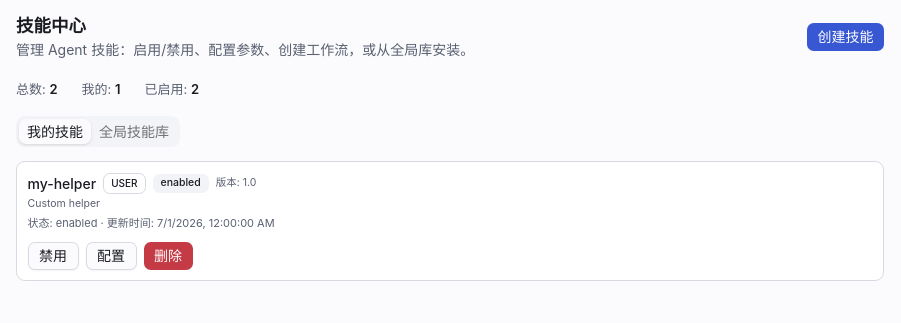
it: Skill Center › shows Chinese short descriptions in the catalog when locale is zh
This screenshot has width=901, height=323.
What coordinates should you click on to do the following:
click the tab "全局技能库"
I would click on:
 (134, 132)
Its box is [91,119,177,144].
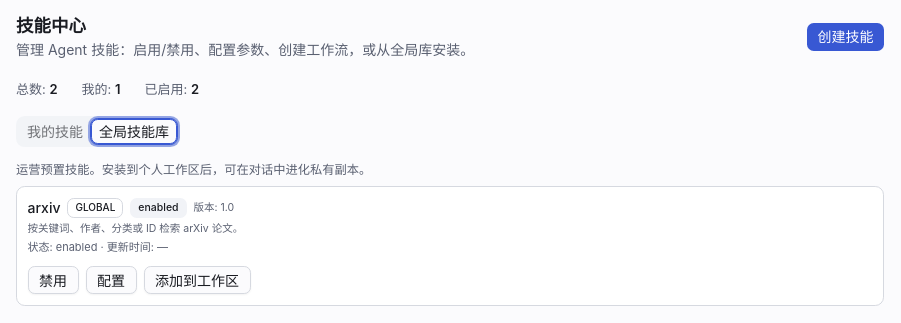
Now the text "arxiv" is shown, box [28,197,60,218]
Now the text "按关键词、作者、分类或 ID 检索 arXiv 论文。" is shown, box [28,222,243,235]
